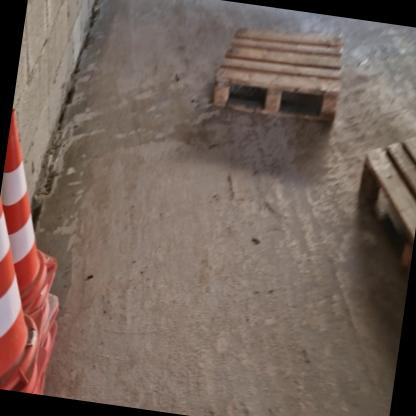BoxFace: (209, 25, 344, 124), (356, 135, 416, 285)
